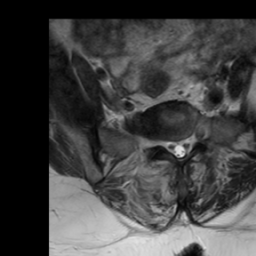CCS_normal: (175, 134, 183, 163)
LFS_normal: (189, 123, 198, 155)
LLS_normal: (183, 128, 190, 160)
RFS_normal: (159, 131, 167, 156)
RLS_normal: (167, 132, 175, 163)
